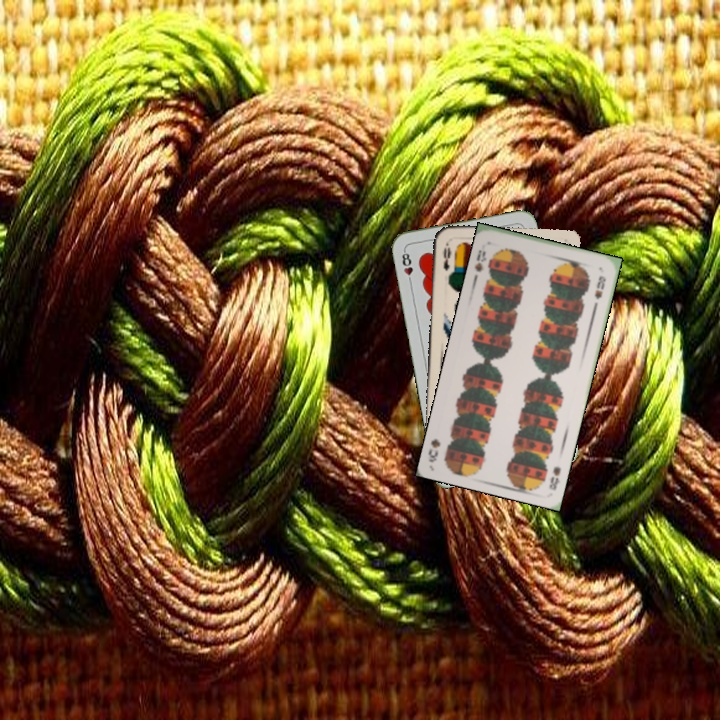EO: (439, 238, 454, 273)
H8: (398, 246, 415, 287)
S8: (545, 462, 563, 493), (470, 246, 489, 274)
